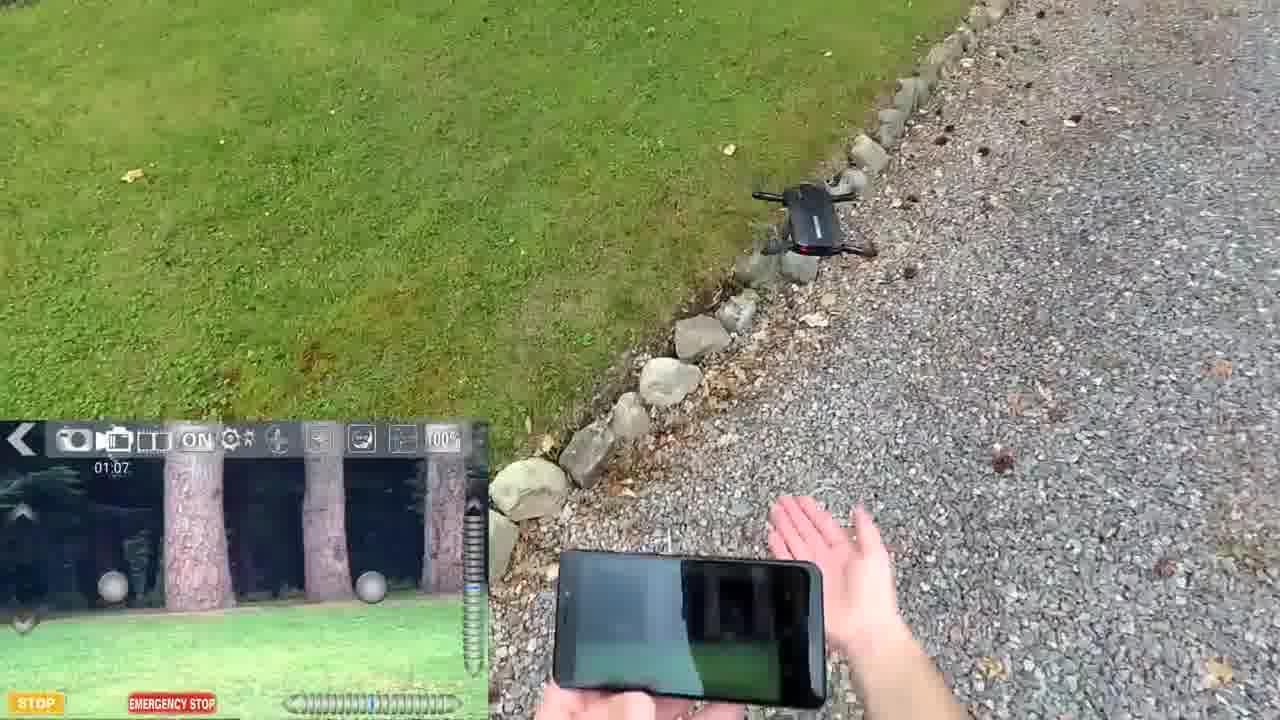drone: (731, 177, 892, 269)
